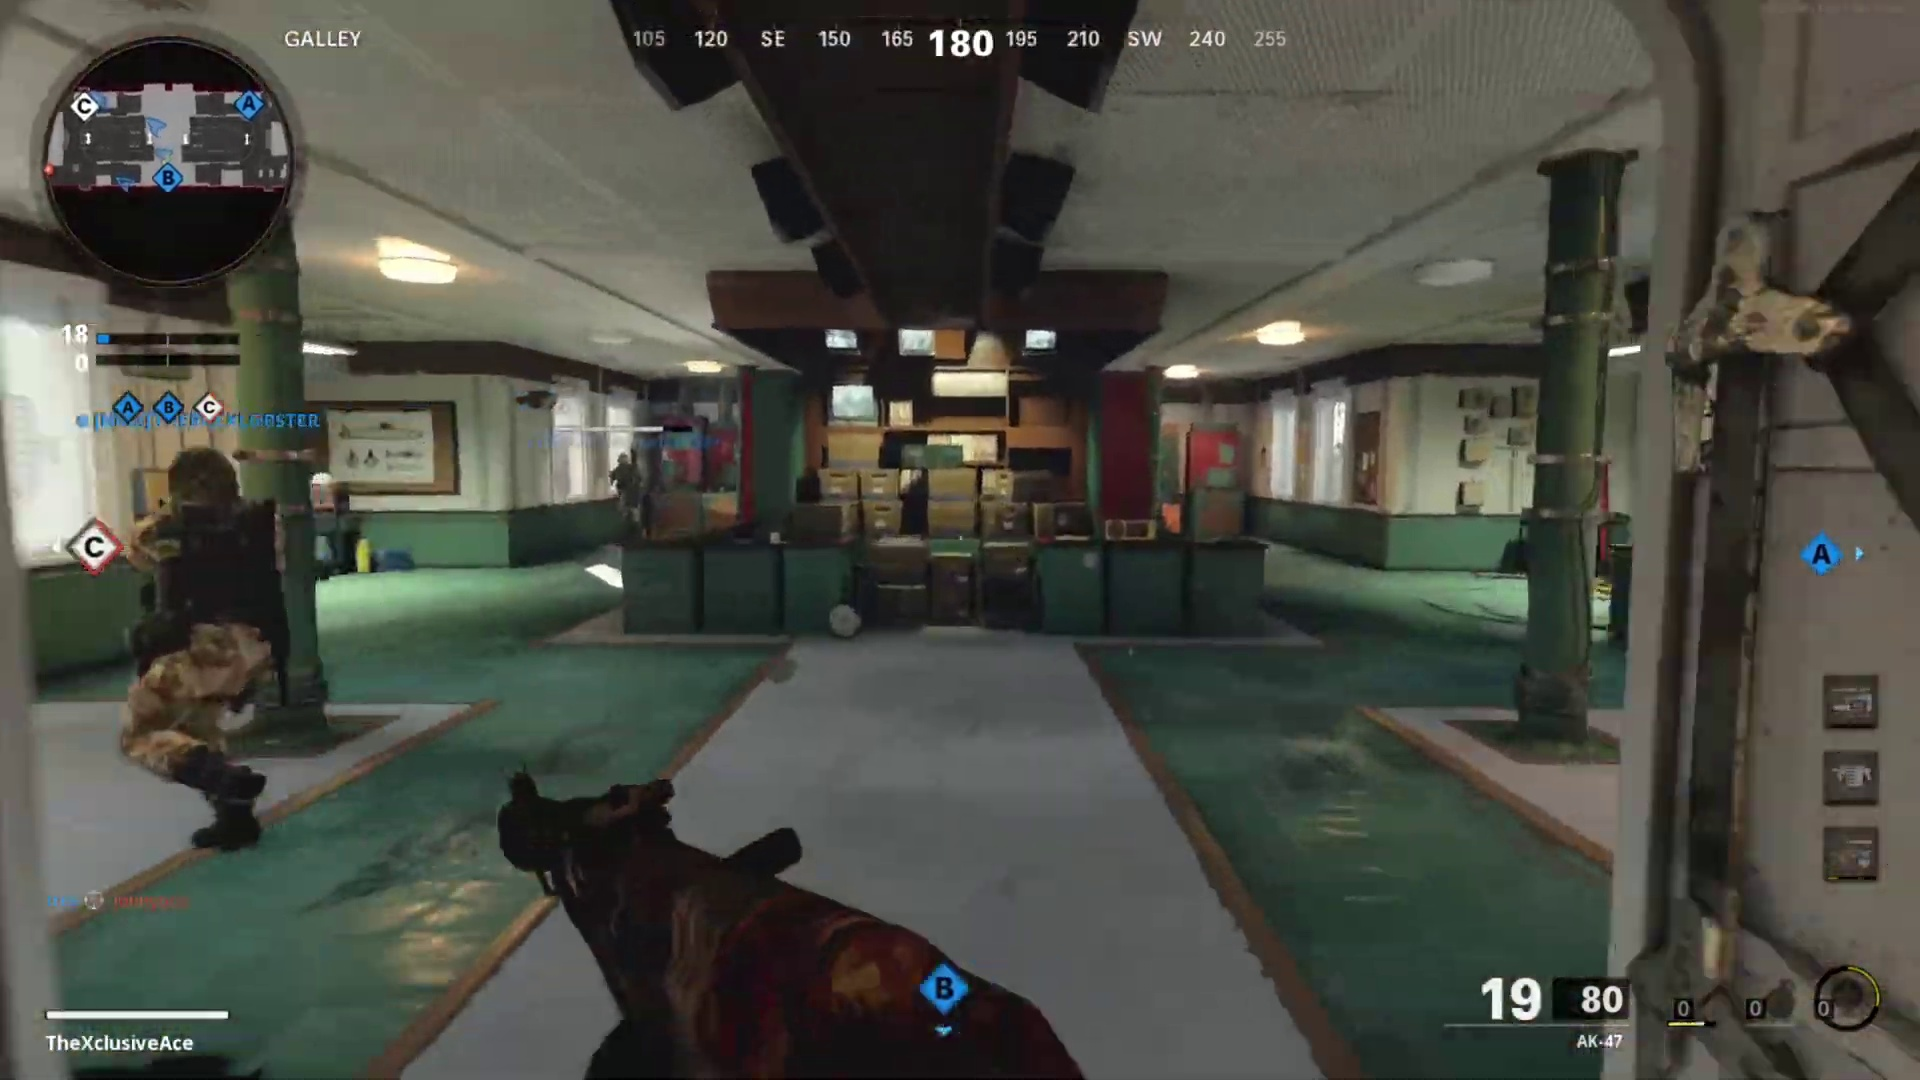head: (159, 442, 246, 543), (613, 451, 632, 472)
person: (125, 444, 282, 857), (606, 452, 640, 526)
